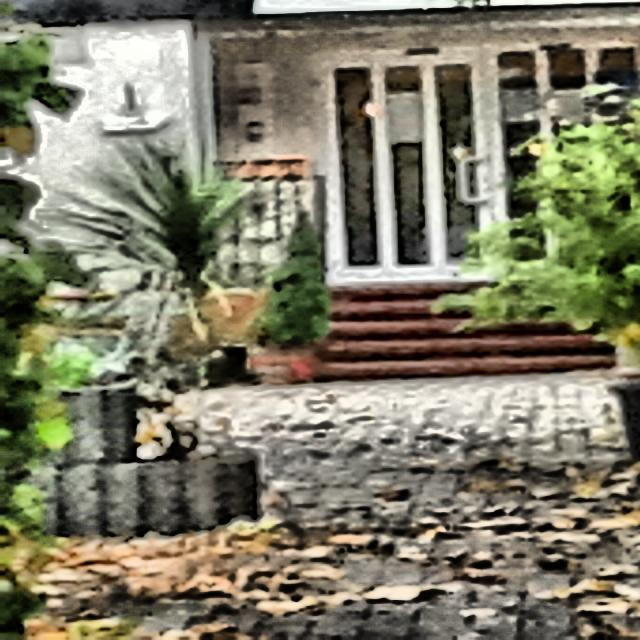escada: (326, 281, 620, 378)
